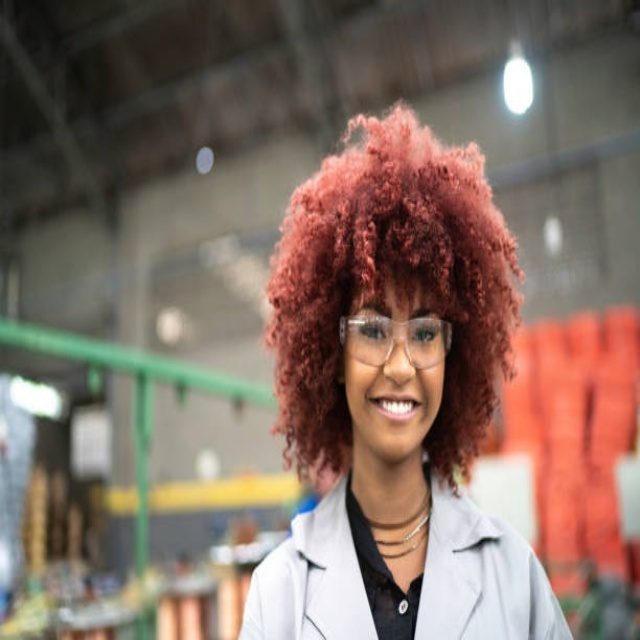Gafas: (339, 312, 453, 368)
Sin_mascara: (363, 384, 426, 442)
